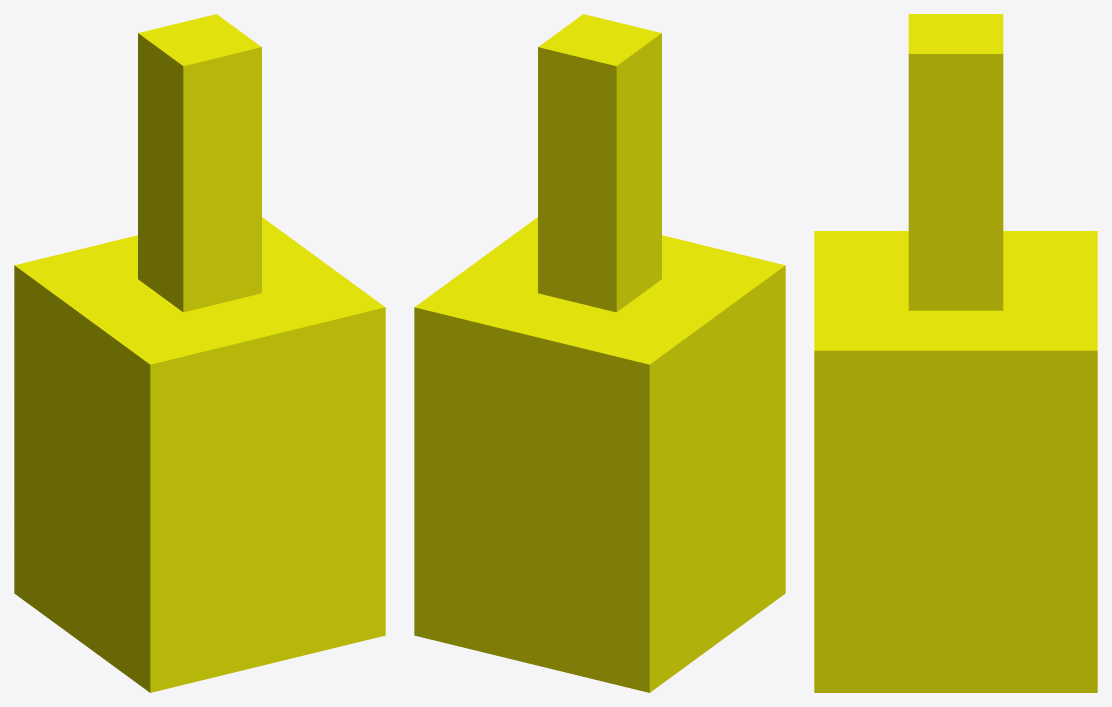
File: voxel-wizards-yellow-potion.glb
3 views of the same model, side by side, from view 1: azimuth 30°, elevation 25°; view 2: azimuth 150°, elevation 25°; view 3: azimuth 270°, elevation 25° (orthographic). The views are drawn at different scales.
Parts seen in each view (by area): view 1: VS_Wizards_Potion_Yellow; view 2: VS_Wizards_Potion_Yellow; view 3: VS_Wizards_Potion_Yellow.
Part boxes in pixels (x1,y1,x2,y2): VS_Wizards_Potion_Yellow: [14, 14, 385, 692]; VS_Wizards_Potion_Yellow: [414, 14, 785, 692]; VS_Wizards_Potion_Yellow: [814, 14, 1097, 692].
Size of the model in its own units: 0.3 by 0.7 by 0.3.
